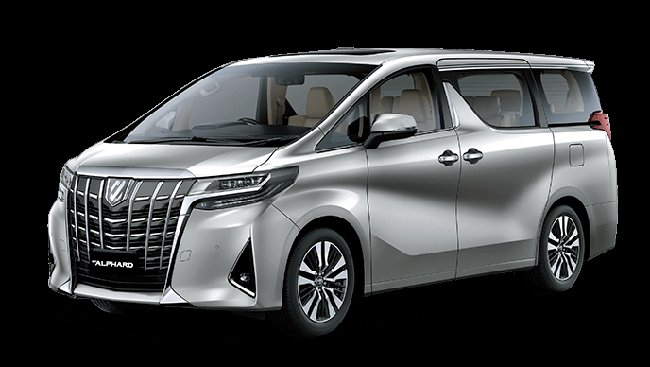mobil: (41, 19, 624, 319)
